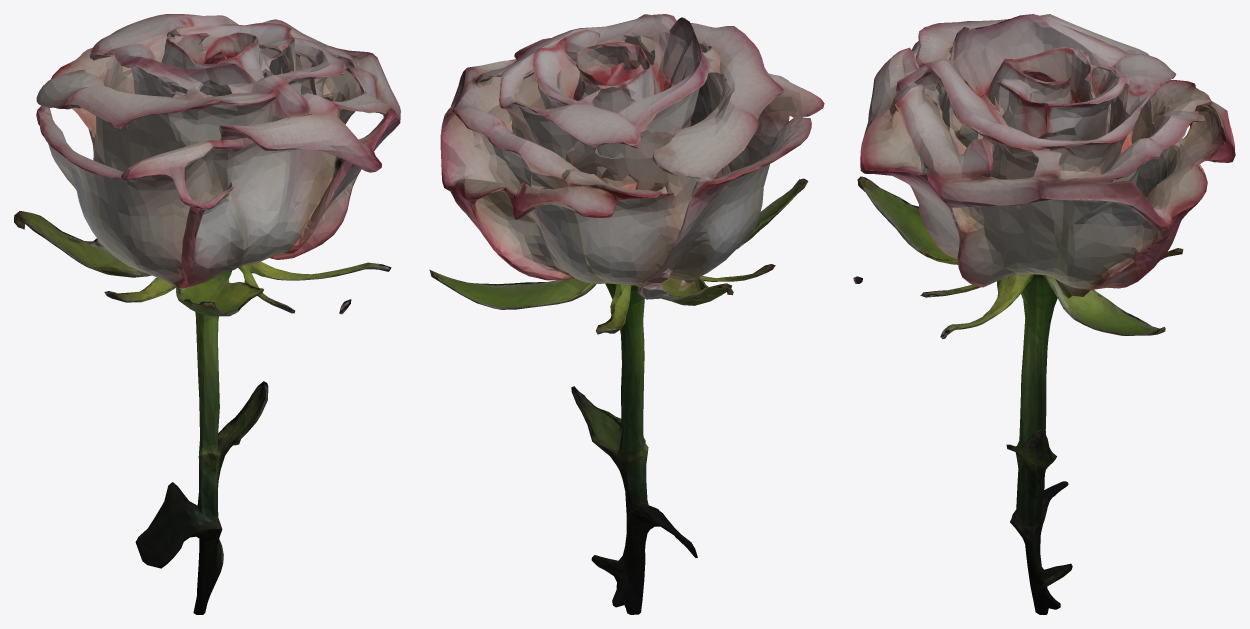
3 views of the same model, side by side, from view 1: azimuth 30°, elevation 25°; view 2: azimuth 150°, elevation 25°; view 3: azimuth 270°, elevation 25° (orthographic). The views are drawn at different scales.
Parts seen in each view (by area): view 1: world; view 2: world; view 3: world.
Part boxes in pixels (x1,y1,x2,y2): world: (14,14,400,614); world: (429,14,824,614); world: (853,14,1235,614).
Bounding box in the file's own units: 0.574 × 0.967 × 0.5801.
1 material, 1 textured.
